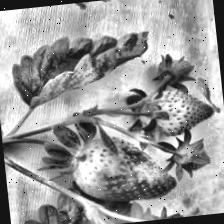Powdery Mildew Fruit: (120, 134, 174, 186)
